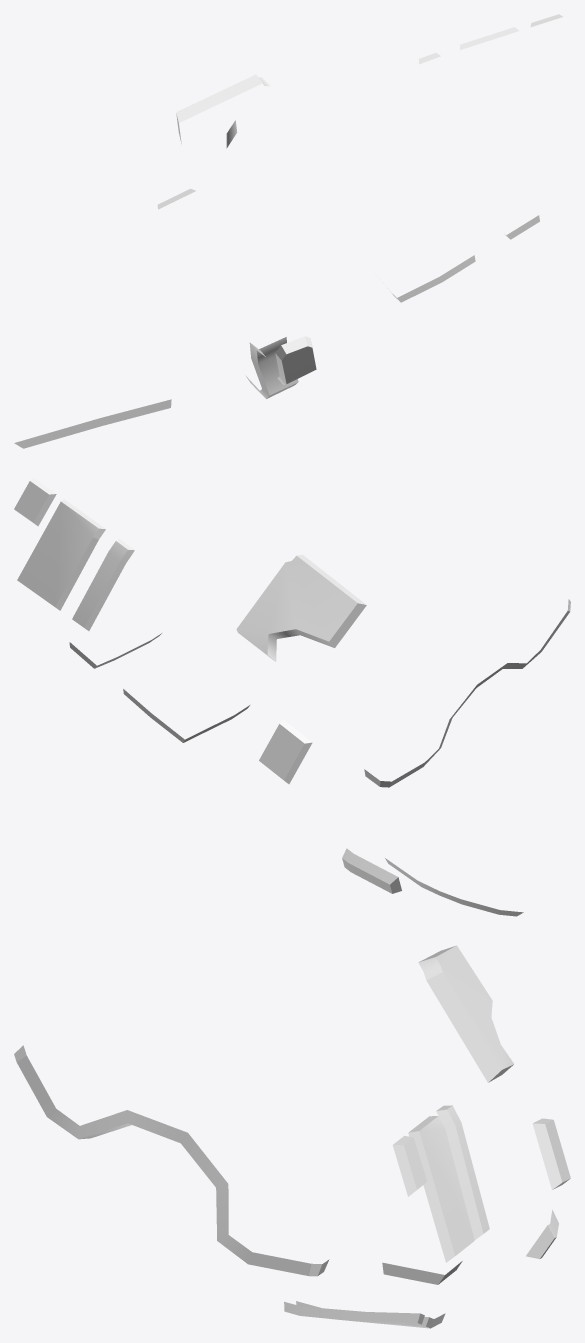
File: prop_static_ama_shipwreck_02_05.glb
3 renders of one model, top to bottom at view 1: azimuth 30°, elevation 25°; view 2: azimuth 150°, elevation 25°; view 3: azimuth 270°, elevation 25°, orthographic. The views are drawn at different scales.
Visible parts, largest first — view 1: ama_ship_wreck_02_05_LOD0; view 2: ama_ship_wreck_02_05_LOD0; view 3: ama_ship_wreck_02_05_LOD0.
Boxes of the visible parts, box(x1,y1,x2,y2) form: ama_ship_wreck_02_05_LOD0: box(14, 14, 562, 448); ama_ship_wreck_02_05_LOD0: box(14, 477, 570, 916); ama_ship_wreck_02_05_LOD0: box(14, 945, 570, 1328).
Size of what is drawn, in the model's own units: 2.91 by 1.63 by 1.97.
1 material, 1 textured.
